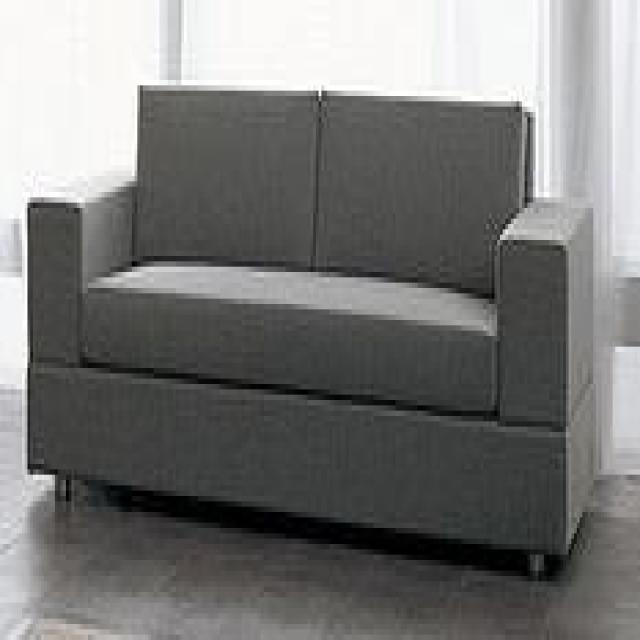sofa: (25, 87, 594, 576)
